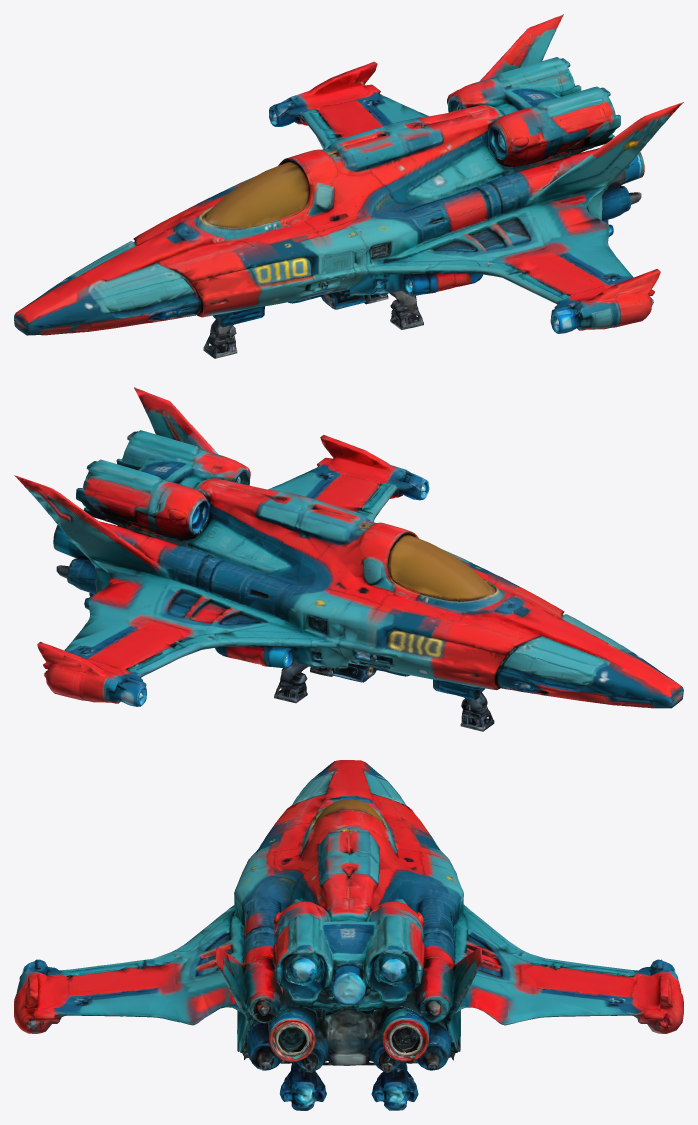
Rendered from ark11.glb.
3 renders of one model, top to bottom at view 1: azimuth 30°, elevation 25°; view 2: azimuth 150°, elevation 25°; view 3: azimuth 270°, elevation 25°, orthographic. The views are drawn at different scales.
Size of the model in its own units: 1.9 by 0.5867 by 1.64.
1 material, 1 textured.
